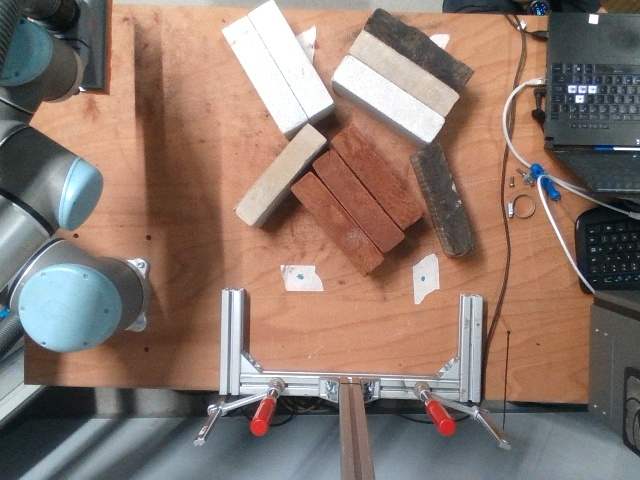brick-side: (223, 15, 305, 132), (313, 149, 404, 252), (291, 172, 383, 273), (249, 0, 331, 113), (333, 55, 443, 139), (349, 30, 458, 113), (234, 123, 324, 222), (365, 8, 472, 89), (332, 127, 418, 227), (416, 145, 477, 255)
